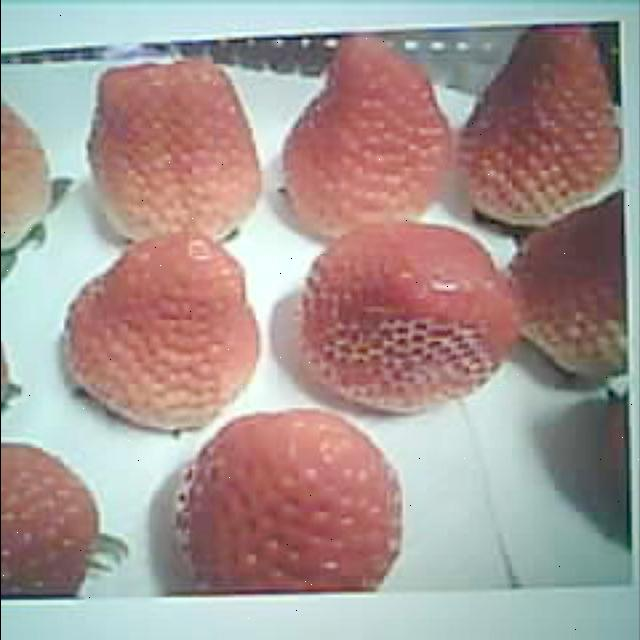strawberry: (178, 410, 407, 600), (67, 241, 266, 428), (83, 64, 262, 242), (284, 44, 452, 230), (466, 28, 630, 218)
